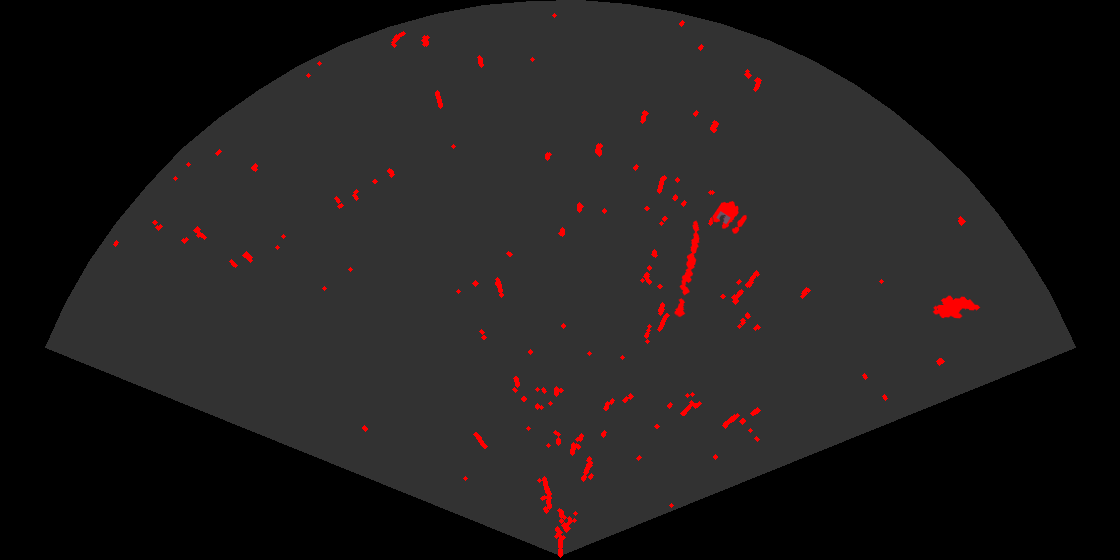AUV: (931, 294, 982, 320)
ball: (711, 199, 748, 235)
chain: (673, 219, 701, 320)
